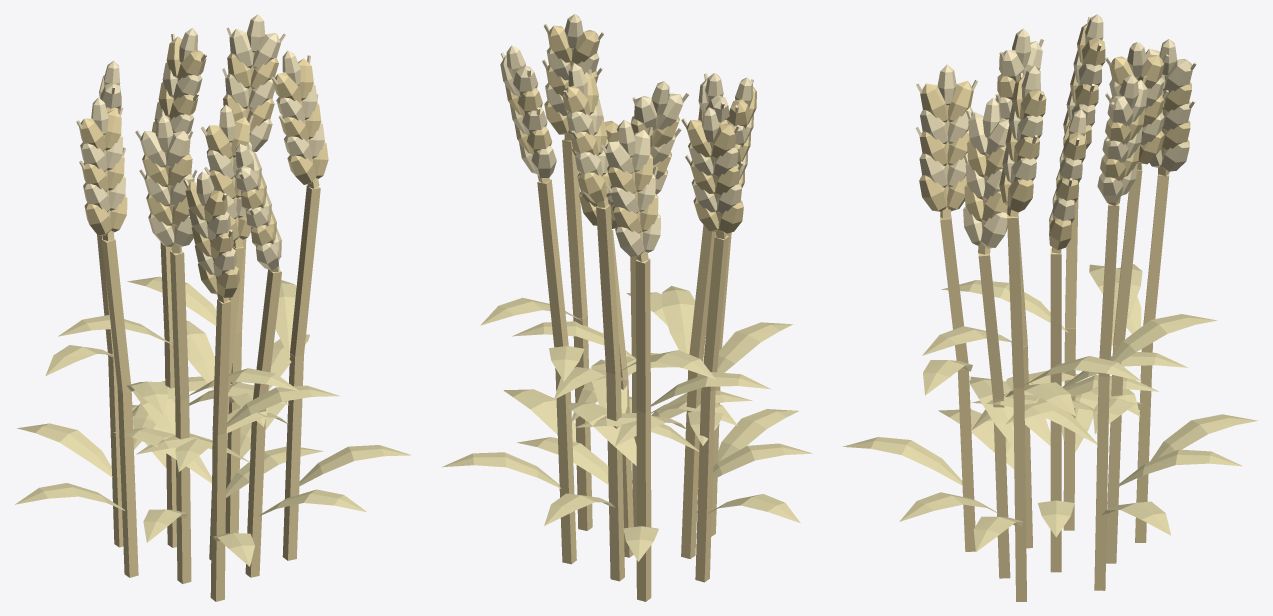
Rendered from crafted-crop-wheat-3.glb.
The picture shows the model from 3 angles, left to right: view 1: azimuth 30°, elevation 25°; view 2: azimuth 150°, elevation 25°; view 3: azimuth 270°, elevation 25°; orthographic projection. The views are drawn at different scales.
Visible parts, largest first — view 1: stalk-4-0, stalk-8-0, stalk-8-1, stalk-6-0, stalk-1-0, stalk-4-1, stalk-1-1, stalk-3-0, stalk-6-1, stalk-7-0, stalk-3-1, stalk-5-0 (+38 smaller); view 2: stalk-4-0, stalk-2-0, stalk-8-1, stalk-2-1, stalk-5-1, stalk-7-0, stalk-5-0, stalk-7-1, stalk-1-0, stalk-4-1, stalk-1-1, stalk-8-0 (+47 smaller); view 3: stalk-5-0, stalk-8-0, stalk-8-1, stalk-2-1, stalk-6-0, stalk-2-0, stalk-5-1, stalk-7-0, stalk-3-1, stalk-7-1, stalk-3-0, blade-17 (+44 smaller).
Boxes of the visible parts, x1,y1,x2,y2 form: stalk-4-0: [117, 389, 138, 577]; stalk-8-0: [282, 353, 303, 560]; stalk-8-1: [290, 185, 320, 356]; stalk-6-0: [210, 431, 226, 601]; stalk-1-0: [175, 397, 191, 583]; stalk-4-1: [101, 239, 130, 392]; stalk-1-1: [170, 250, 189, 400]; stalk-3-0: [245, 408, 266, 577]; stalk-6-1: [212, 299, 230, 435]; stalk-7-0: [108, 356, 123, 547]; stalk-3-1: [253, 269, 281, 399]; stalk-5-0: [225, 331, 241, 533]; stalk-4-0: [695, 389, 715, 582]; stalk-2-0: [606, 370, 624, 581]; stalk-8-1: [562, 139, 587, 318]; stalk-2-1: [596, 204, 620, 374]; stalk-5-1: [537, 179, 568, 347]; stalk-7-0: [636, 409, 651, 601]; stalk-5-0: [555, 368, 576, 564]; stalk-7-1: [635, 258, 650, 413]; stalk-1-0: [681, 370, 701, 558]; stalk-4-1: [701, 235, 728, 392]; stalk-1-1: [689, 225, 716, 361]; stalk-8-0: [573, 315, 592, 530]; stalk-5-0: [1094, 376, 1109, 590]; stalk-8-0: [1013, 388, 1026, 601]; stalk-8-1: [1007, 214, 1024, 388]; stalk-2-1: [1113, 166, 1142, 346]; stalk-6-0: [957, 369, 975, 551]; stalk-2-0: [1106, 344, 1122, 563]; stalk-5-1: [1098, 203, 1119, 376]; stalk-7-0: [1135, 342, 1152, 542]; stalk-3-1: [978, 253, 1003, 399]; stalk-7-1: [1143, 173, 1169, 324]; stalk-3-0: [993, 399, 1010, 578]; blade-17: [1110, 314, 1217, 362].
Size of the model in its own units: 0.7322 by 1.02 by 0.7198.
